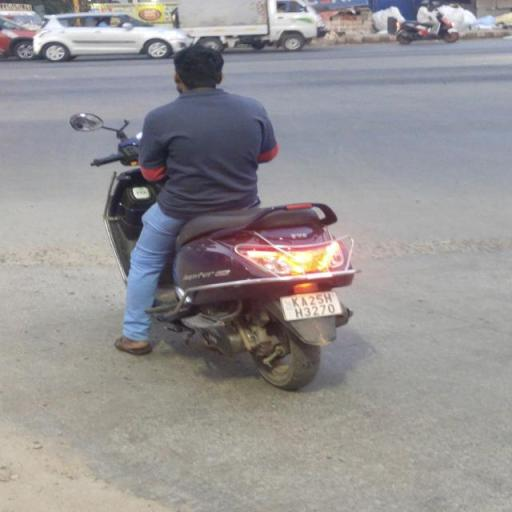bike: (67, 47, 365, 392)
numberplate: (281, 287, 347, 321)
withouthelmet: (178, 47, 220, 89)
